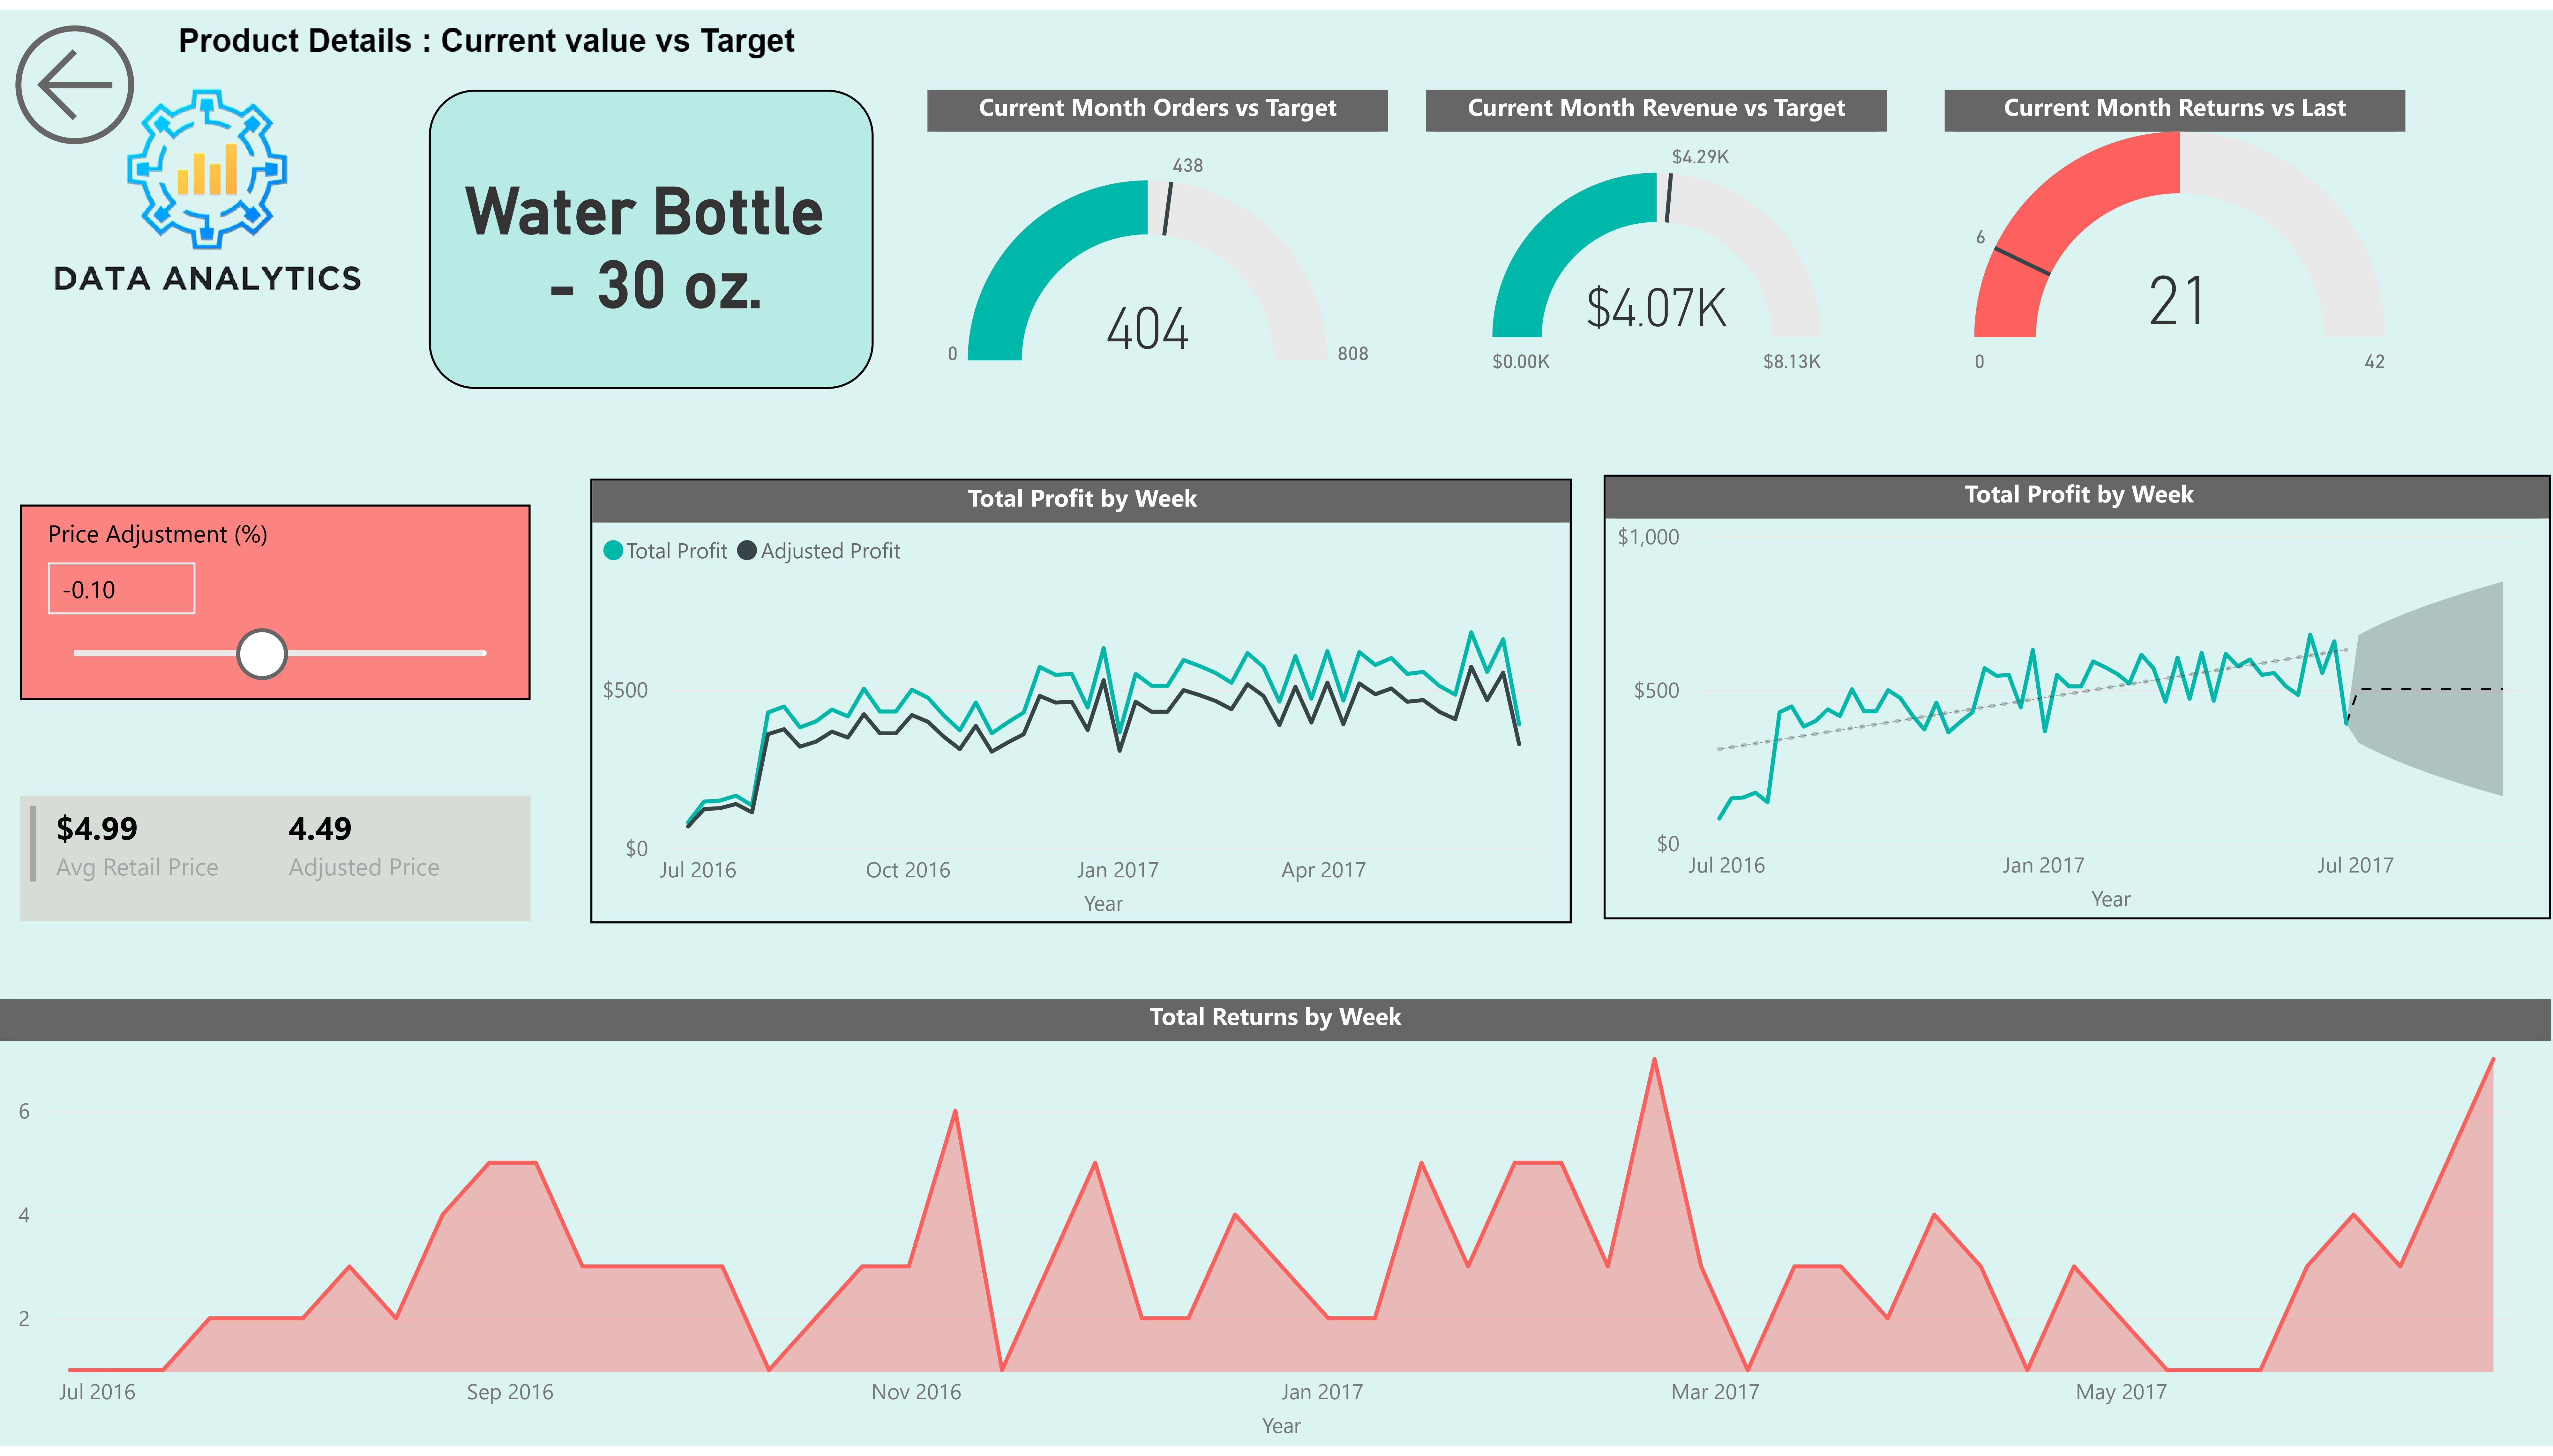

This screenshot's page, from the dashboard's own definition file:
{"tool":"powerbi","page":{"name":"Profits & Returns","canvas":[1280,720],"ordinal":2},"visuals":[{"type":"actionButton","box":[0,0,77.1,75],"z":0},{"type":"image","box":[10.4,0,186.9,181.7],"z":1000},{"type":"lineChart","title":"Total Profit by Week","fields":{"Y":["AW_Sales.Total Profit"],"Category":["AW_Calendar_Lookup.Start of Week.Variation.Date Hierarchy.Year","AW_Calendar_Lookup.Start of Week.Variation.Date Hierarchy.Quarter","AW_Calendar_Lookup.Start of Week.Variation.Date Hierarchy.Month","AW_Calendar_Lookup.Start of Week.Variation.Date Hierarchy.Day"]},"box":[804.2,233.3,475,222.9],"z":2000},{"type":"stackedAreaChart","title":"Total Returns by Week","fields":{"Category":["AW_Calendar_Lookup.Start of Week.Variation.Date Hierarchy.Year","AW_Calendar_Lookup.Start of Week.Variation.Date Hierarchy.Quarter","AW_Calendar_Lookup.Start of Week.Variation.Date Hierarchy.Month","AW_Calendar_Lookup.Start of Week.Variation.Date Hierarchy.Day"],"Y":["AW_Returns.Total Returns"]},"box":[0,495.8,1279.2,225],"z":3000},{"type":"gauge","title":"Current Month Orders vs Target","fields":{"Y":["AW_Sales.Total Orders"],"TargetValue":["AW_Sales.Order Target"]},"box":[464.6,39.6,231.2,150],"z":4000},{"type":"gauge","title":"Current Month Revenue vs Target","fields":{"Y":["AW_Sales.Total Revenue"],"TargetValue":["AW_Sales.Revenue Target"]},"box":[714.6,39.6,231.2,150],"z":5000},{"type":"gauge","title":"Current Month Returns vs Last","fields":{"Y":["AW_Returns.Total Returns"],"TargetValue":["AW_Returns.Prev Month Returns"]},"box":[975,39.6,231.2,150],"z":6000},{"type":"card","fields":{"Values":["Min(AW_Product_Lookup.ProductName)"]},"box":[214.6,39.6,222.9,150],"z":7000},{"type":"slicer","fields":{"Values":["Price Adjustment (%).Price Adjustment (%)"]},"box":[10.4,247.9,256.2,97.9],"z":8000},{"type":"multiRowCard","fields":{"Values":["AW_Product_Lookup.Avg Retail Price","AW_Product_Lookup.Adjusted Price"]},"box":[10.4,393.8,256.2,62.5],"z":9000},{"type":"lineChart","title":"Total Profit by Week","fields":{"Y":["AW_Sales.Total Profit","AW_Sales.Adjusted Profit"],"Category":["AW_Calendar_Lookup.Start of Week.Variation.Date Hierarchy.Year","AW_Calendar_Lookup.Start of Week.Variation.Date Hierarchy.Quarter","AW_Calendar_Lookup.Start of Week.Variation.Date Hierarchy.Month","AW_Calendar_Lookup.Start of Week.Variation.Date Hierarchy.Day"]},"box":[295.8,235.4,491.7,222.9],"z":10000}]}

Visuals, with their boxes in screenshot pixels (x1, y1, x2, y2), scaled from the page's 1280x720 canvas onto the 2553x1456 screenshot:
actionButton: Rect(0, 0, 154, 152)
image: Rect(21, 0, 393, 368)
"Total Profit by Week" lineChart: Rect(1604, 472, 2551, 923)
"Total Returns by Week" stackedAreaChart: Rect(0, 1003, 2551, 1456)
"Current Month Orders vs Target" gauge: Rect(927, 80, 1388, 383)
"Current Month Revenue vs Target" gauge: Rect(1425, 80, 1886, 383)
"Current Month Returns vs Last" gauge: Rect(1945, 80, 2406, 383)
card - Min(AW_Product_Lookup.ProductName): Rect(428, 80, 872, 383)
slicer - Price Adjustment (%).Price Adjustment (%): Rect(21, 501, 532, 699)
multiRowCard - AW_Product_Lookup.Avg Retail Price x AW_Product_Lookup.Adjusted Price: Rect(21, 796, 532, 923)
"Total Profit by Week" lineChart: Rect(590, 476, 1571, 927)
